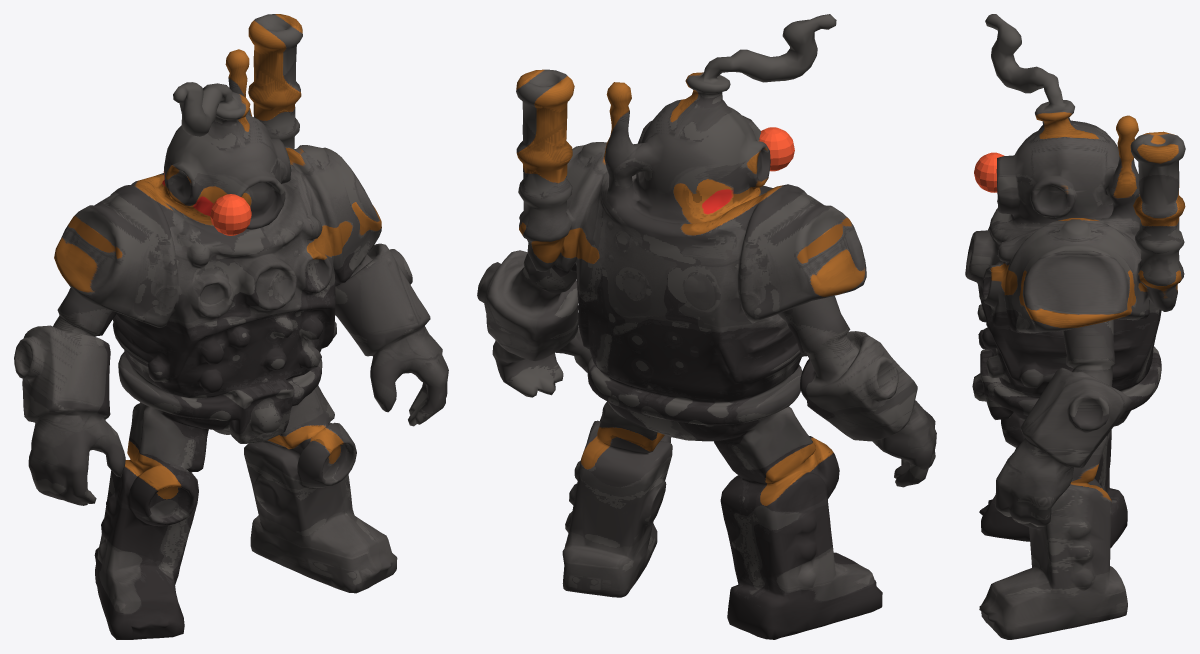
Rendered from sentinel_v7.glb.
3 renders of one model, left to right at view 1: azimuth 30°, elevation 25°; view 2: azimuth 150°, elevation 25°; view 3: azimuth 270°, elevation 25°, orthographic. The views are drawn at different scales.
Visible parts, largest first — view 1: Body, Eye; view 2: Body, Eye; view 3: Body, Eye.
Part boxes in pixels (x1=…): Body: x1=14, y1=14, x2=448, y2=639; Eye: x1=210, y1=194, x2=251, y2=235; Body: x1=477, y1=14, x2=936, y2=639; Eye: x1=759, y1=127, x2=794, y2=171; Body: x1=965, y1=14, x2=1185, y2=639; Eye: x1=974, y1=152, x2=1004, y2=192.
Size of the model in its own units: 1.59 by 1.99 by 0.7637.
2 materials, 1 textured.
